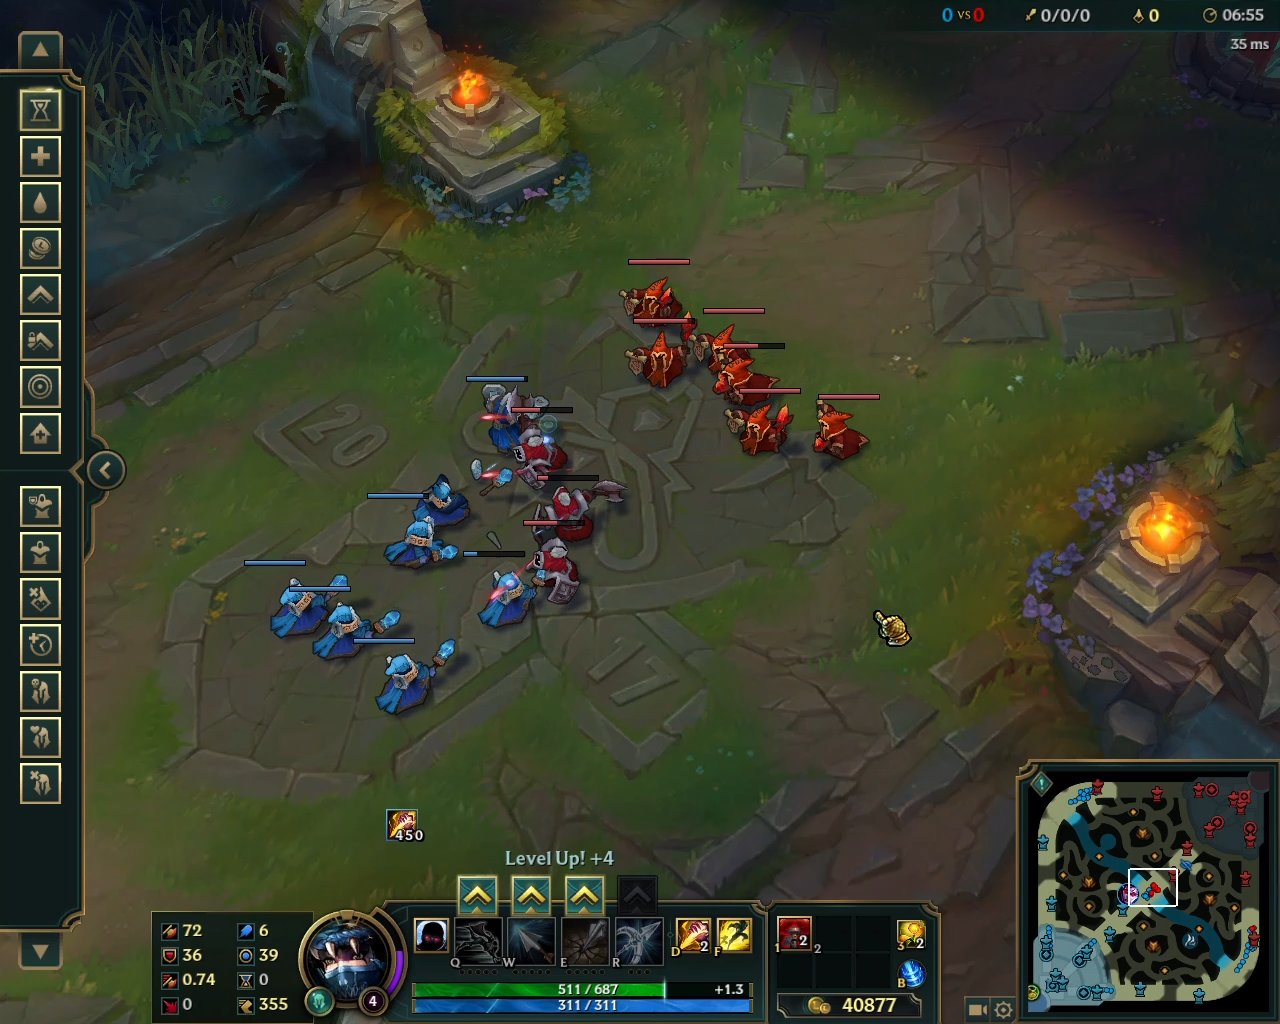EnemyMinion: (530, 473, 629, 550), (623, 310, 700, 396), (507, 405, 579, 492), (522, 520, 584, 616), (721, 388, 801, 460), (691, 308, 766, 380), (806, 394, 881, 465), (616, 259, 690, 331), (709, 343, 785, 408)
